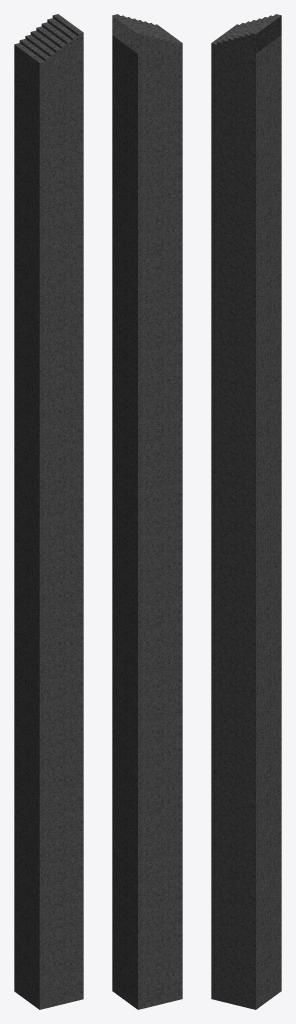
The model's file is Stairs2x2.fbx.
3 renders of one model, left to right at view 1: azimuth 30°, elevation 25°; view 2: azimuth 210°, elevation 25°; view 3: azimuth 330°, elevation 25°, orthographic.
Parts seen in each view (by area): view 1: Cube.022; view 2: Cube.022; view 3: Cube.022.
Boxes of the visible parts, bbox=[...] form: Cube.022: bbox=[14, 14, 83, 1009]; Cube.022: bbox=[112, 14, 182, 1009]; Cube.022: bbox=[211, 14, 281, 1009].
Size of the model in its own units: 400 by 8370 by 400.
